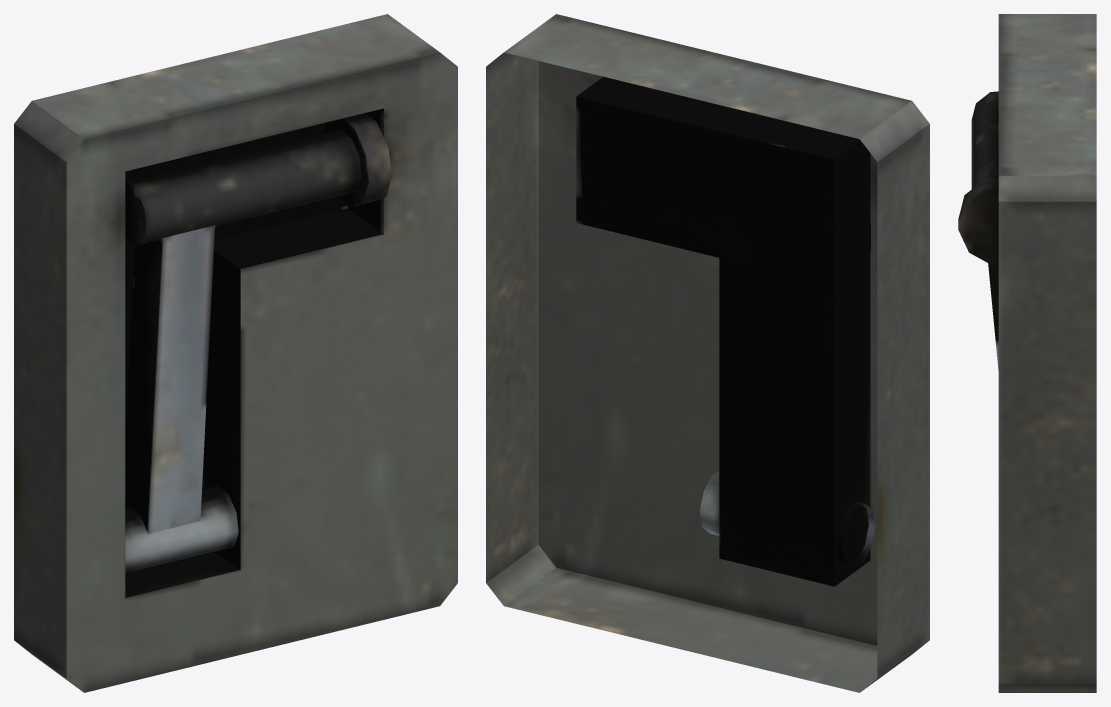
Rendered from DoorMainLever.FBX.
3 renders of one model, left to right at view 1: azimuth 30°, elevation 25°; view 2: azimuth 150°, elevation 25°; view 3: azimuth 270°, elevation 25°, orthographic. The views are drawn at different scales.
Parts seen in each view (by area): view 1: LeverBox, Lever; view 2: LeverBox; view 3: LeverBox, Lever.
Boxes of the visible parts, x1,y1,x2,y2 form: LeverBox: (14,14,457,692); Lever: (125,113,391,533); LeverBox: (486,14,929,692); LeverBox: (998,14,1096,692); Lever: (958,91,998,370).
Bounding box in the file's own units: 22.03 × 29.78 × 7.22.
